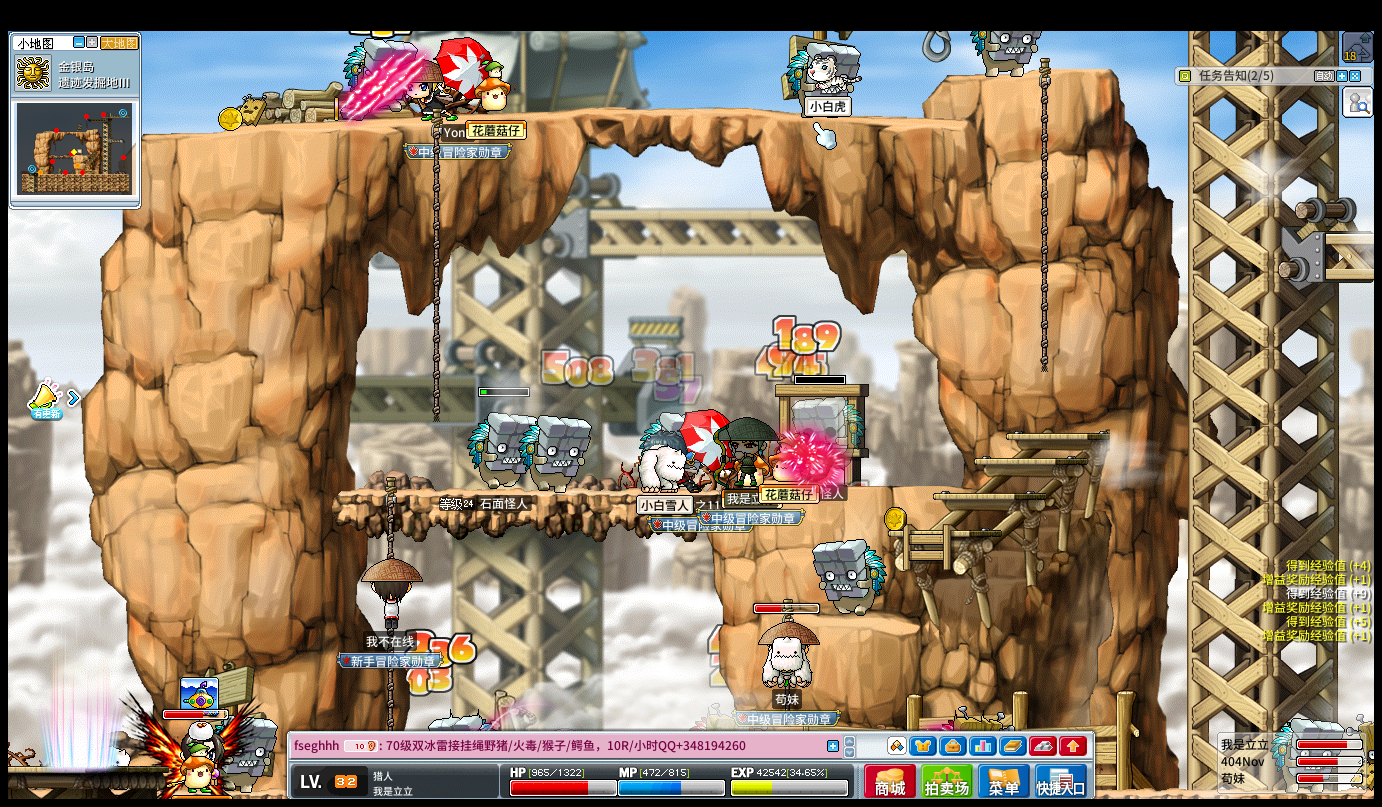floor: (160, 104, 1000, 136), (332, 487, 709, 499), (801, 612, 921, 634), (946, 63, 1119, 77), (955, 66, 1119, 79), (786, 481, 972, 492), (1003, 429, 1105, 440), (969, 456, 1083, 464), (888, 528, 1001, 536), (935, 492, 1045, 500)
monster: (792, 396, 866, 482), (813, 538, 886, 617), (520, 414, 592, 492), (342, 36, 407, 118), (466, 411, 528, 488), (228, 714, 277, 791)
rope: (1036, 55, 1051, 384), (431, 108, 442, 425), (1037, 52, 1050, 302), (382, 475, 397, 557), (384, 669, 393, 730)
